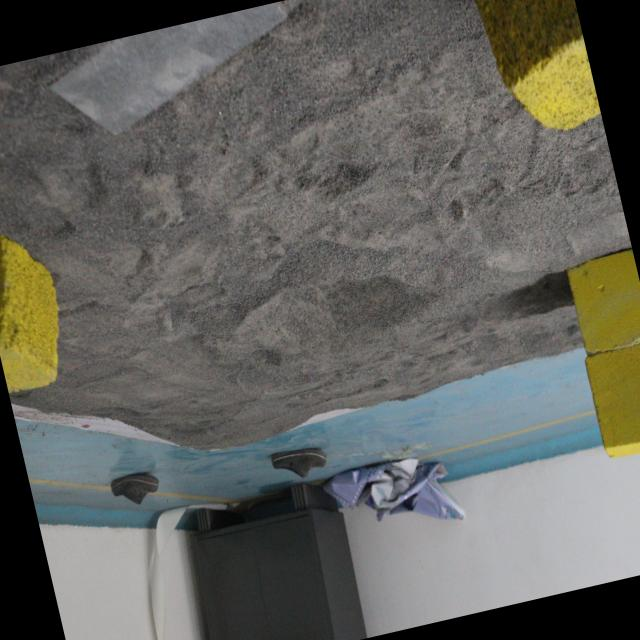crater: (218, 236, 456, 390)
